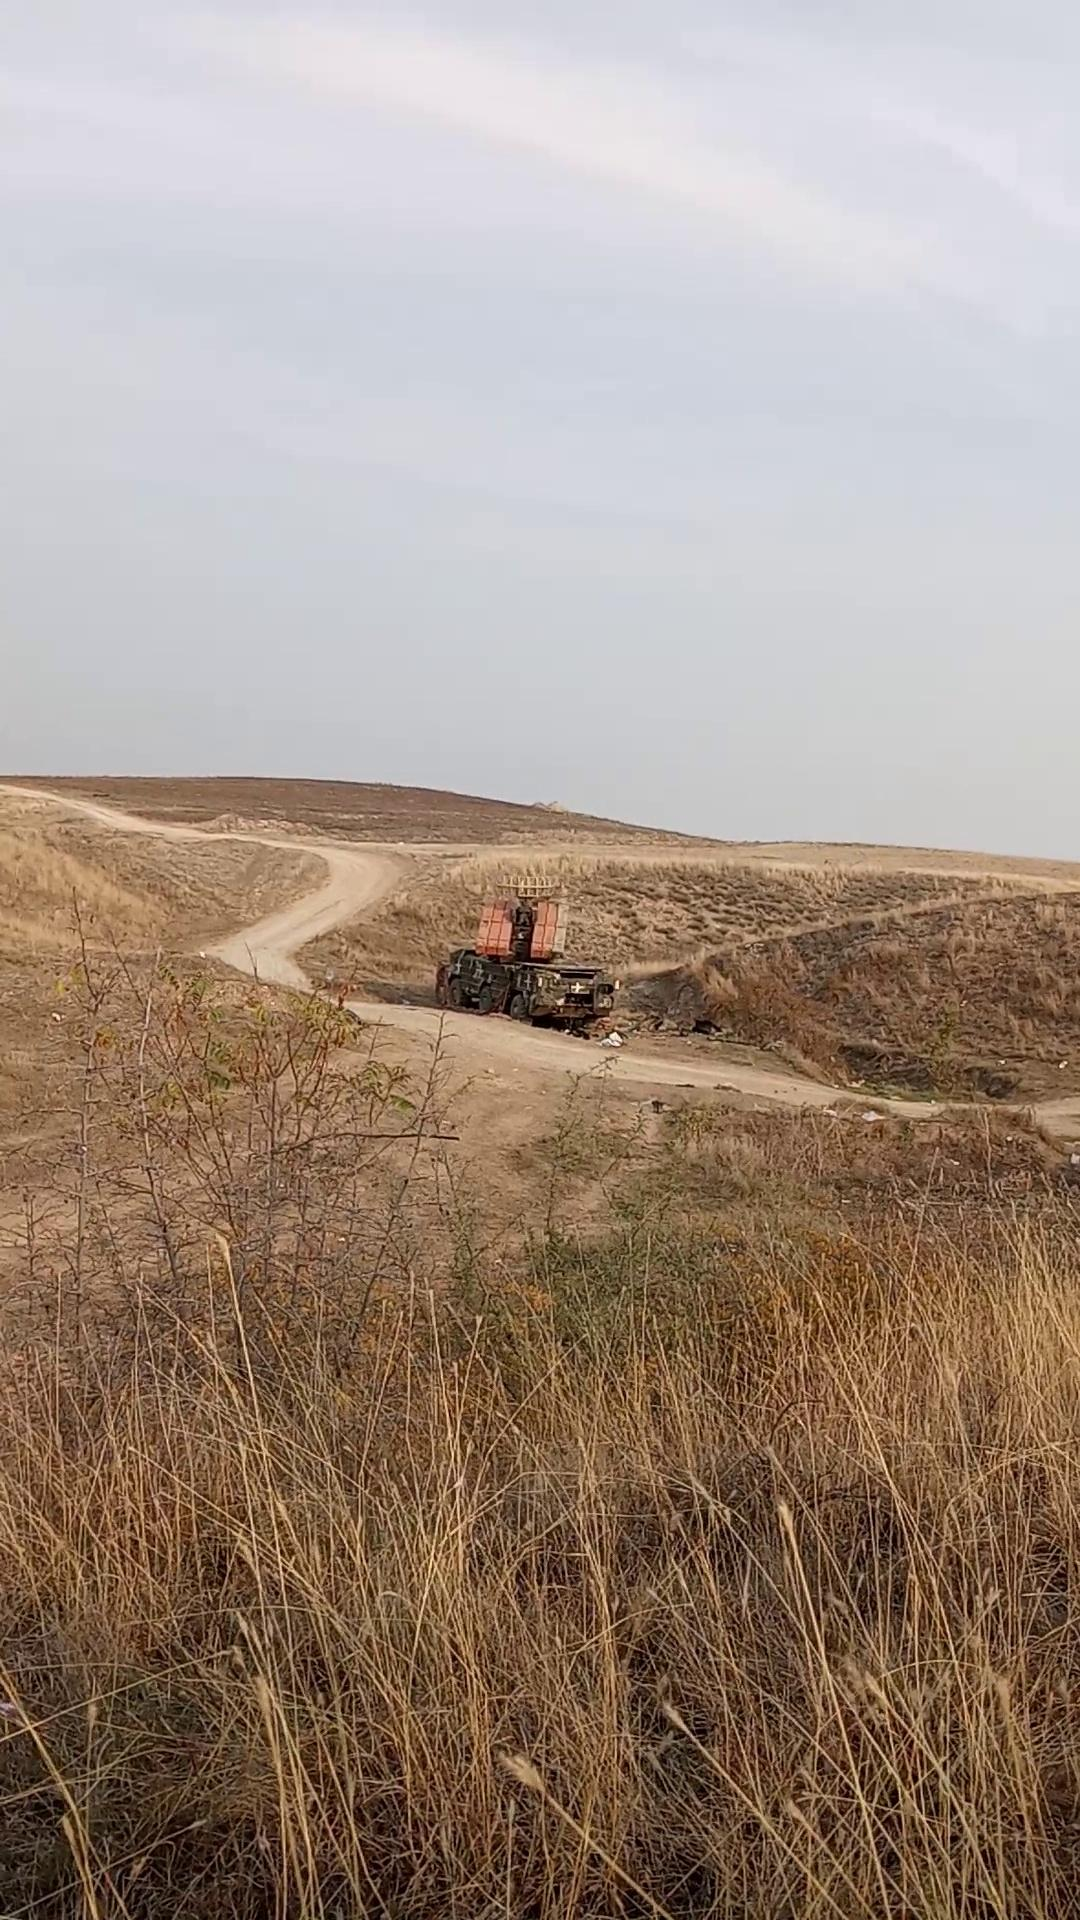MIL_SAM_TEL: (429, 870, 625, 1034)
